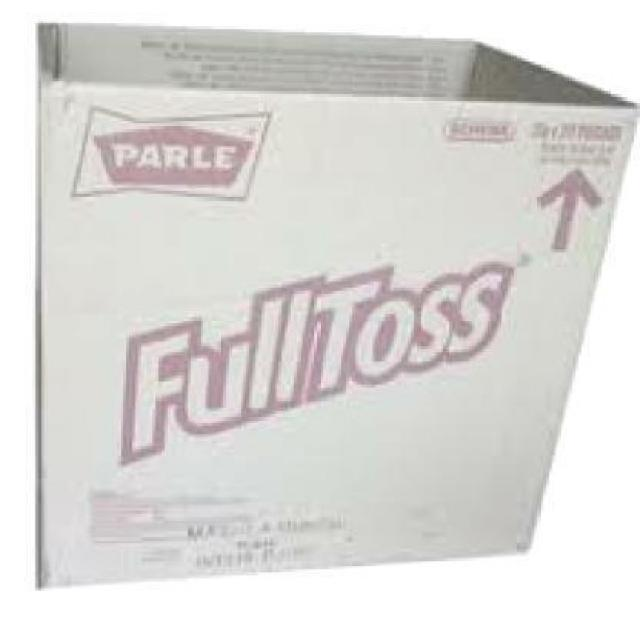-: (29, 18, 637, 591)
